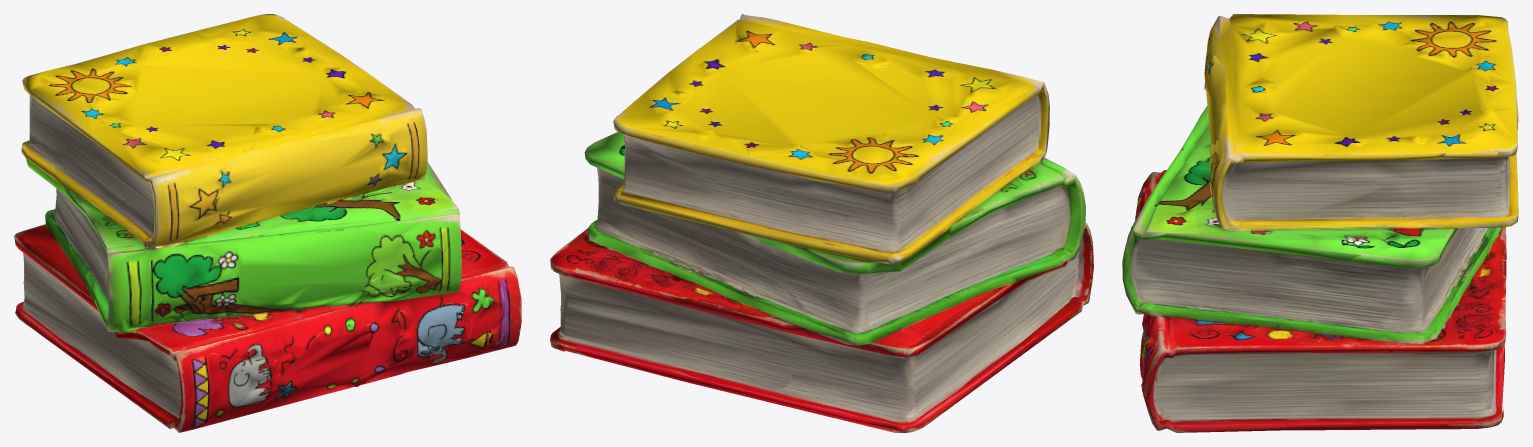
The model's file is book.glb.
The picture shows the model from 3 angles, left to right: view 1: azimuth 30°, elevation 25°; view 2: azimuth 150°, elevation 25°; view 3: azimuth 270°, elevation 25°; orthographic projection. The views are drawn at different scales.
Visible parts, largest first — view 1: Mesh_0; view 2: Mesh_0; view 3: Mesh_0.
Boxes of the visible parts, x1=… form: Mesh_0: x1=14, y1=14, x2=521, y2=432; Mesh_0: x1=550, y1=14, x2=1093, y2=432; Mesh_0: x1=1122, y1=14, x2=1518, y2=432.
Bounding box in the file's own units: 1.91 × 1.12 × 1.64.
1 material, 1 textured.
